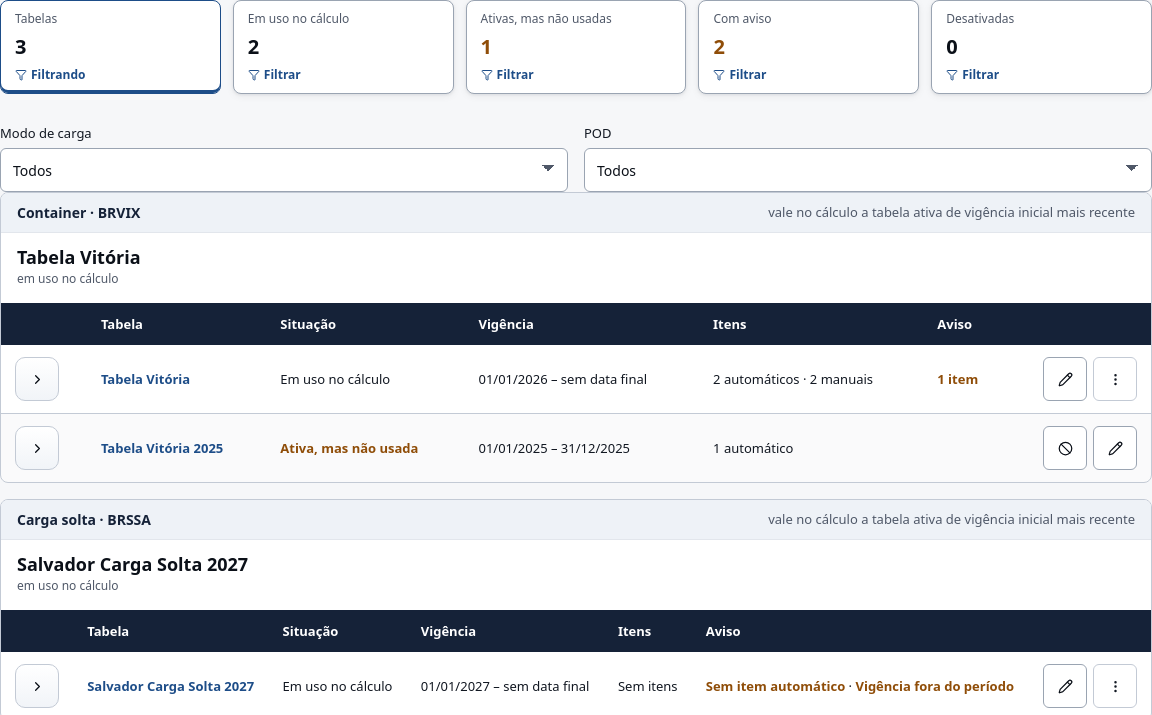
Tabelas de Taxas Locais › abre os itens com unidade, perfil e o que o motor faz com cada um
Click the button "Tabela Vitória": (146,379) [101,370,190,388]
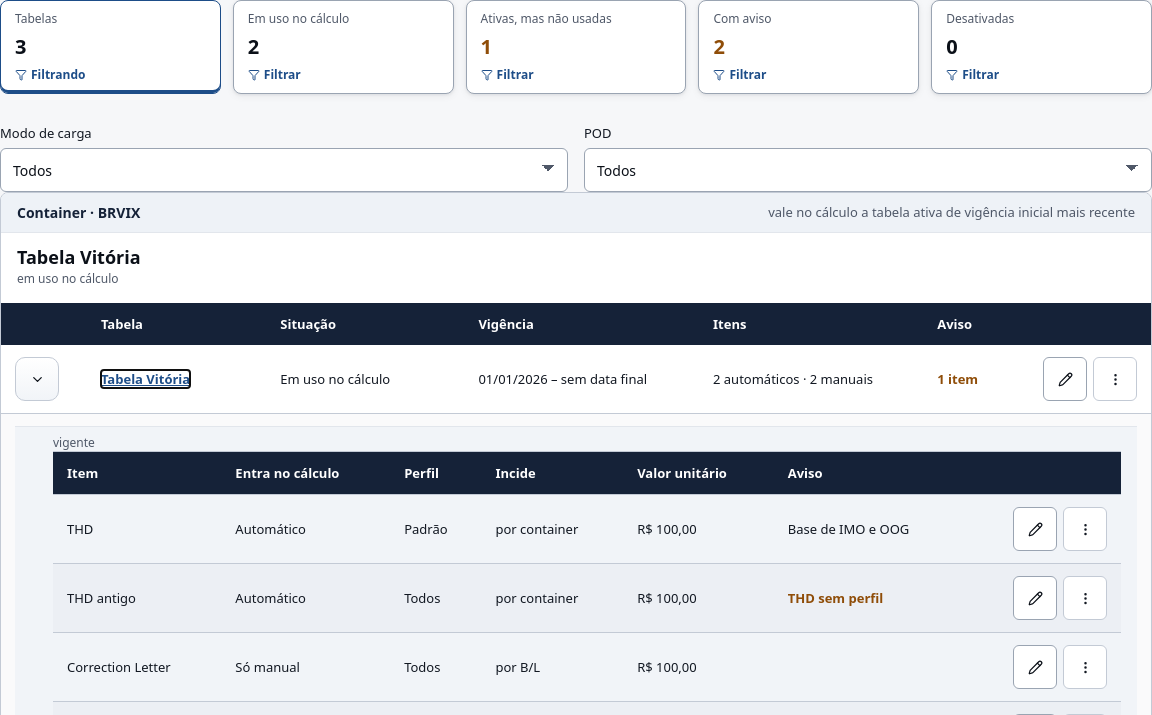
Now the button "Tabela Vitória" is expanded, box [101,370,190,388]
Now the text "por container" next to "Padrão" is shown, box [496,520,578,538]
Now the element titled "THD com perfil \"Todos\"" reads "THD sem perfil", box [788,589,883,607]
